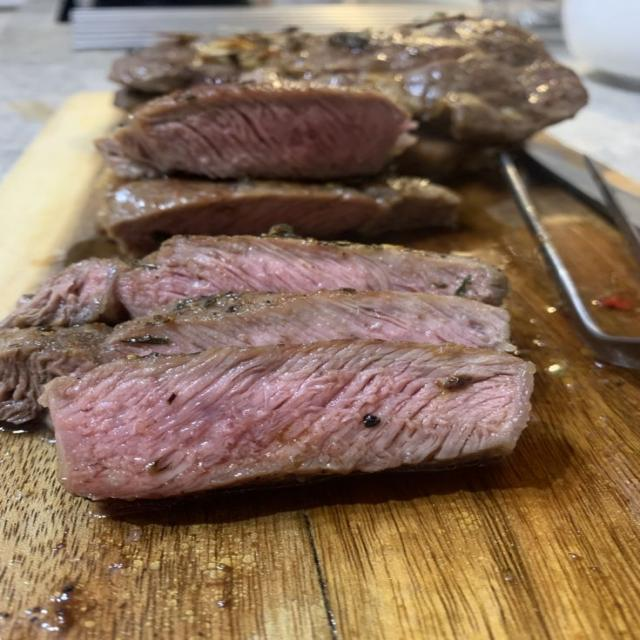beef steak: (41, 341, 533, 499), (180, 15, 587, 144), (118, 236, 507, 317), (97, 81, 414, 179), (102, 177, 459, 257), (105, 290, 511, 359), (0, 324, 110, 424), (0, 258, 128, 328), (392, 134, 499, 180), (109, 40, 198, 95), (214, 63, 232, 75)
